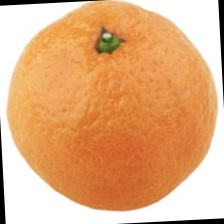orange: (52, 30, 204, 188)
